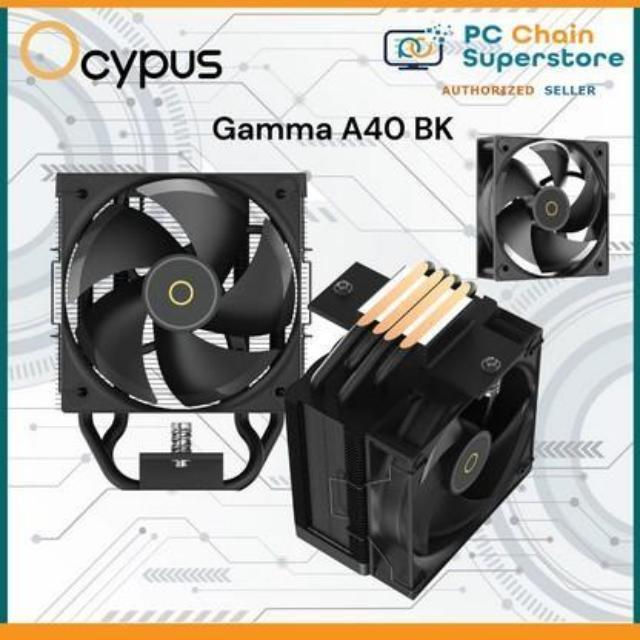CPU_Fan: (284, 260, 538, 597), (48, 166, 308, 494)
